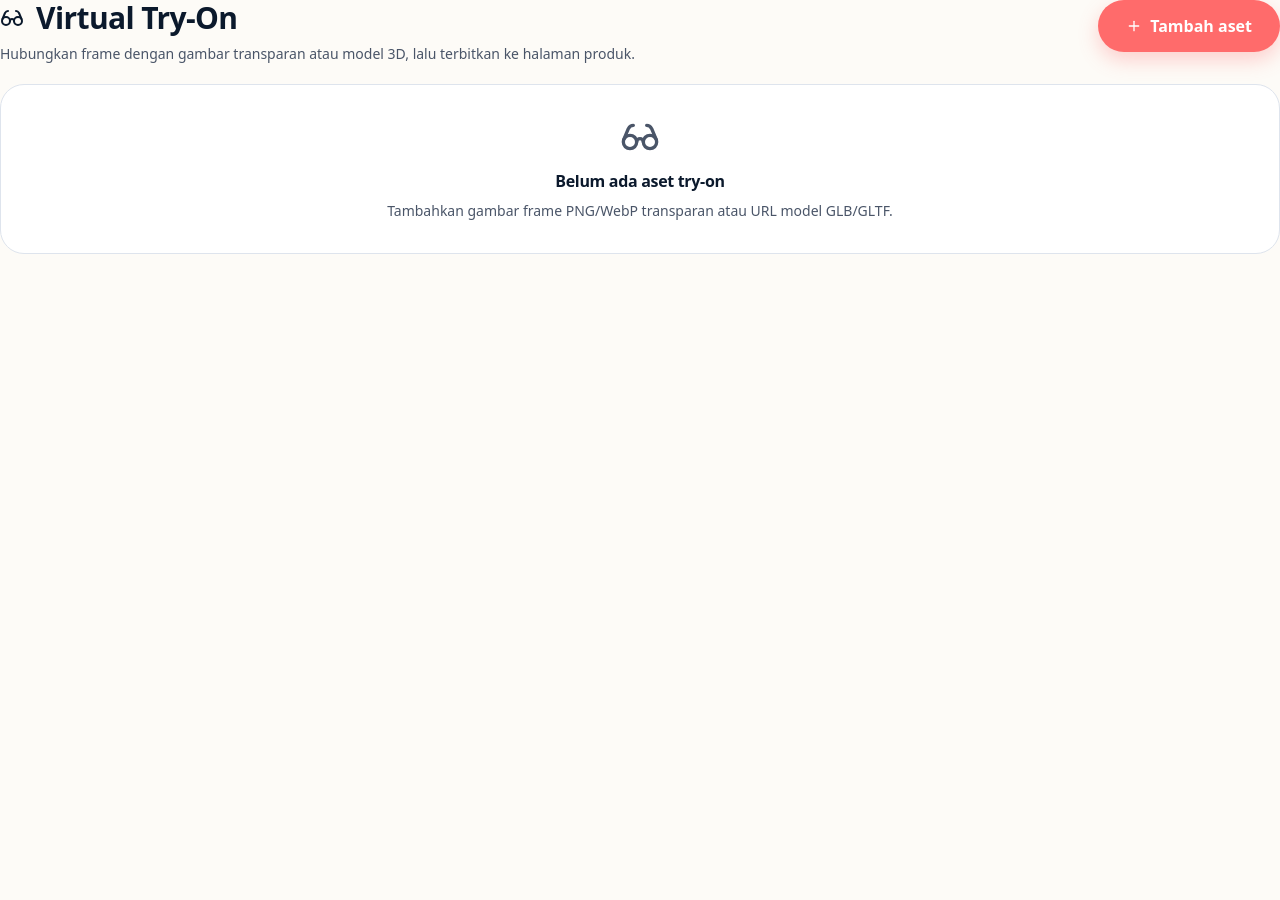
Test: opening the form includes Frame and Paket with SKU and excludes lenses and deleted products
The image size is (1280, 900).
Click the button "Tambah aset" at (1189, 26), box 1098,0 -> 1279,52
Wait 200 ms
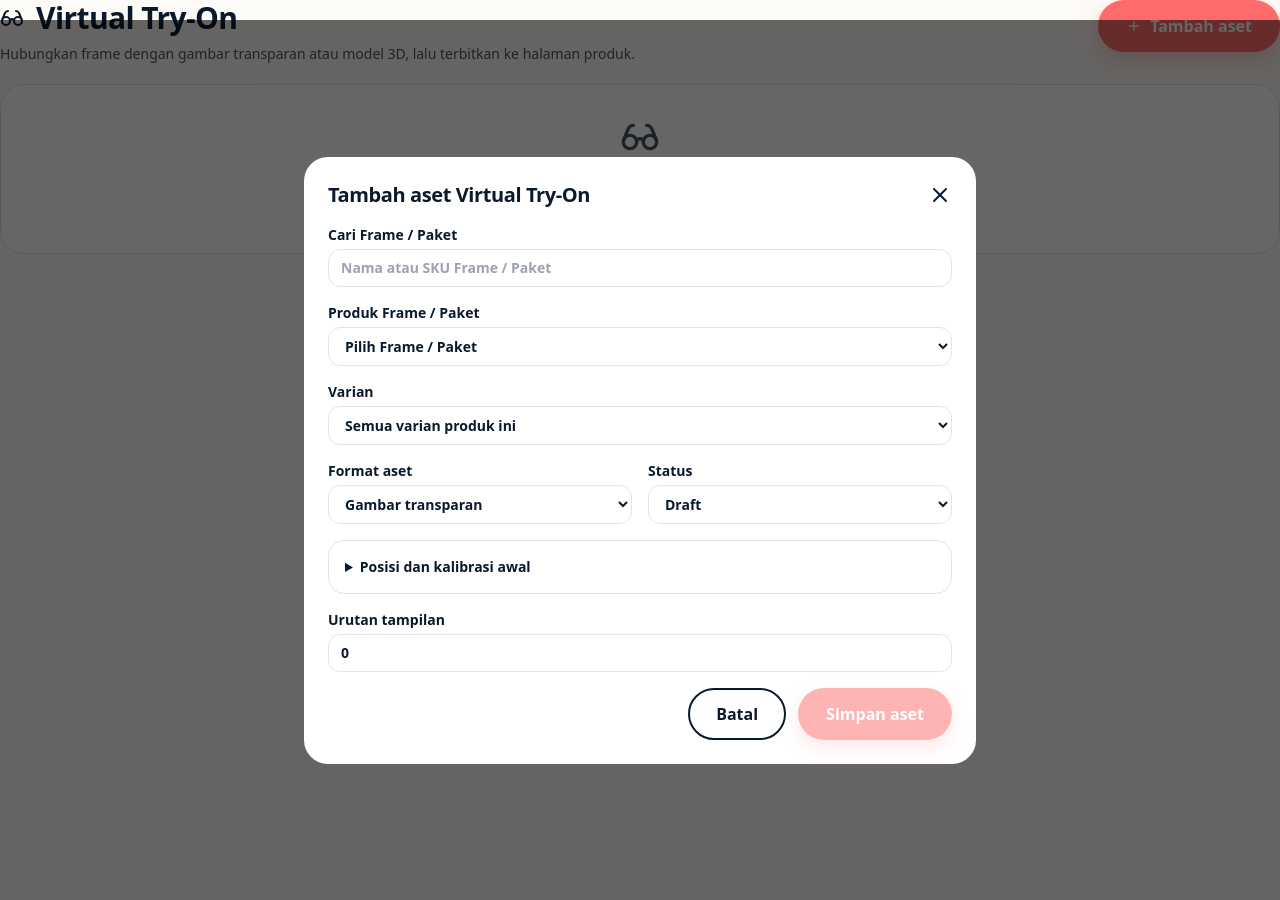
Now the dropdown labelled "Produk Frame / Paket" is shown, box 328,326 -> 952,366
